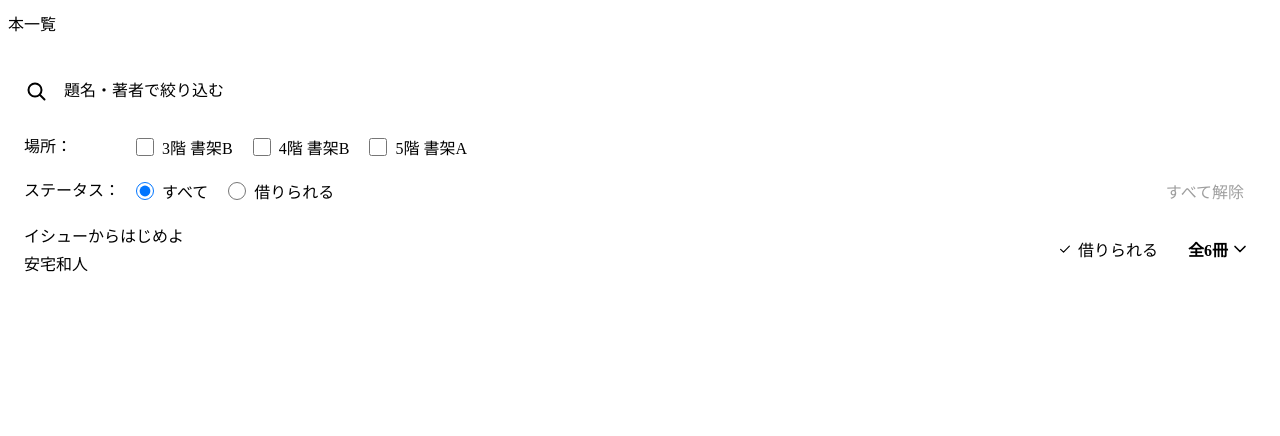
Test: BookListPage の置き場所ごとの行 › SB-53: 同じ置き場所の本が全て貸出中なら「誰かが借用中」と「残り0冊」を出す
Click the button "イシューからはじめよ 安宅和人 借りられる 全6冊" at (104, 236), box [8,211,1272,287]
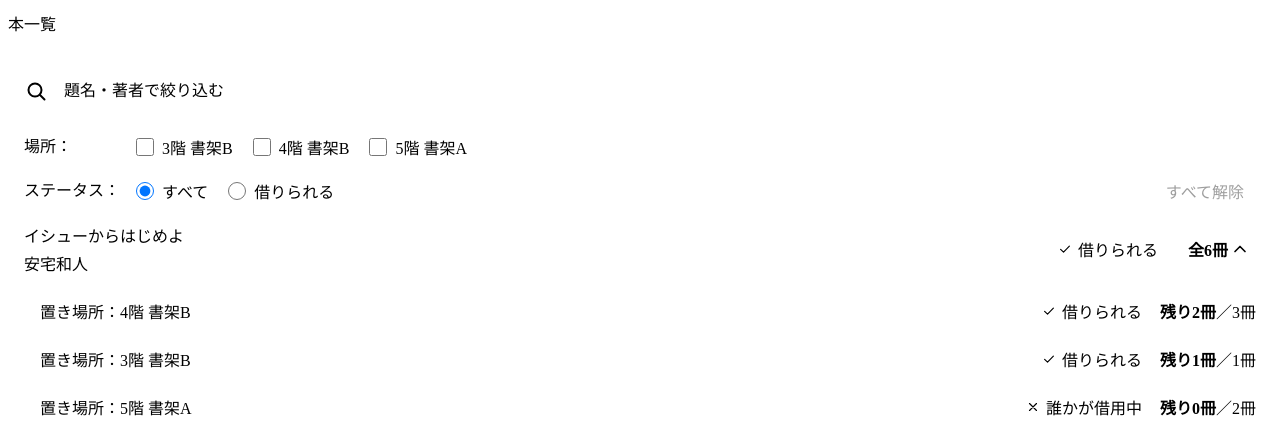
Check: the text "誰かが借用中" is shown, box [1016,395,1152,419]
Check: the text "残り0冊" is shown, box [1160,400,1216,417]
